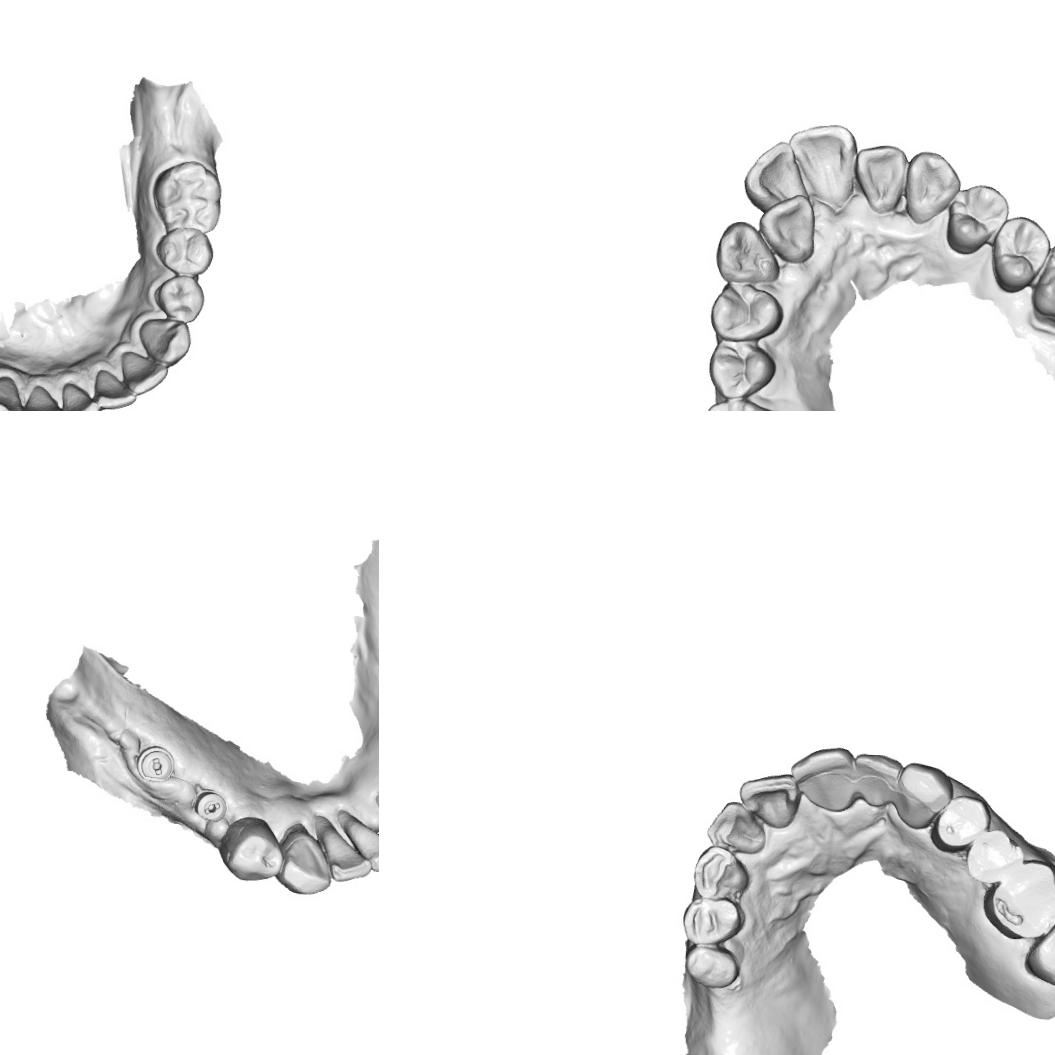canine: (901, 148, 965, 226), (712, 219, 783, 288), (276, 822, 338, 898), (896, 762, 950, 830), (690, 844, 752, 902), (136, 316, 194, 368), (0, 372, 26, 411)
implant_minus: (133, 742, 182, 790), (188, 784, 228, 824)
incisor: (784, 118, 862, 217), (742, 140, 818, 231), (790, 740, 854, 814), (852, 136, 909, 216), (758, 194, 817, 264), (702, 797, 770, 857), (852, 750, 907, 816), (738, 772, 800, 827), (323, 820, 374, 884), (116, 347, 170, 399), (90, 365, 139, 411), (16, 381, 69, 411), (54, 378, 99, 411), (349, 828, 379, 875)
molar: (983, 855, 1055, 945), (150, 158, 224, 232), (1028, 229, 1055, 336), (1023, 904, 1055, 991)
premolar: (942, 179, 1011, 258), (988, 212, 1050, 297), (706, 331, 776, 402), (707, 282, 784, 346), (218, 818, 281, 885), (963, 825, 1029, 884), (931, 794, 990, 854), (154, 225, 216, 280), (151, 269, 207, 325), (679, 943, 743, 992), (683, 896, 746, 942)
